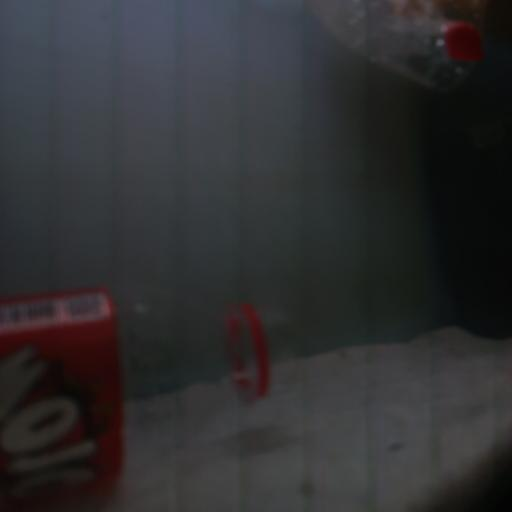bottle_cap: (447, 23, 493, 67)
plastic_bag: (312, 4, 512, 92)
plastic_bottle: (2, 291, 307, 512)
